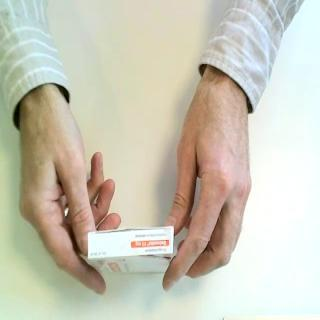dolcontin10mg: (86, 225, 176, 278)
